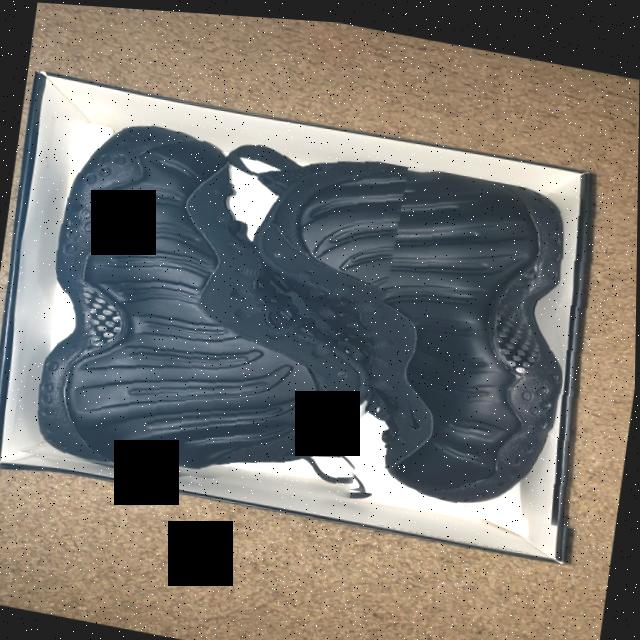shoe: (11, 98, 409, 514), (229, 133, 639, 534)
